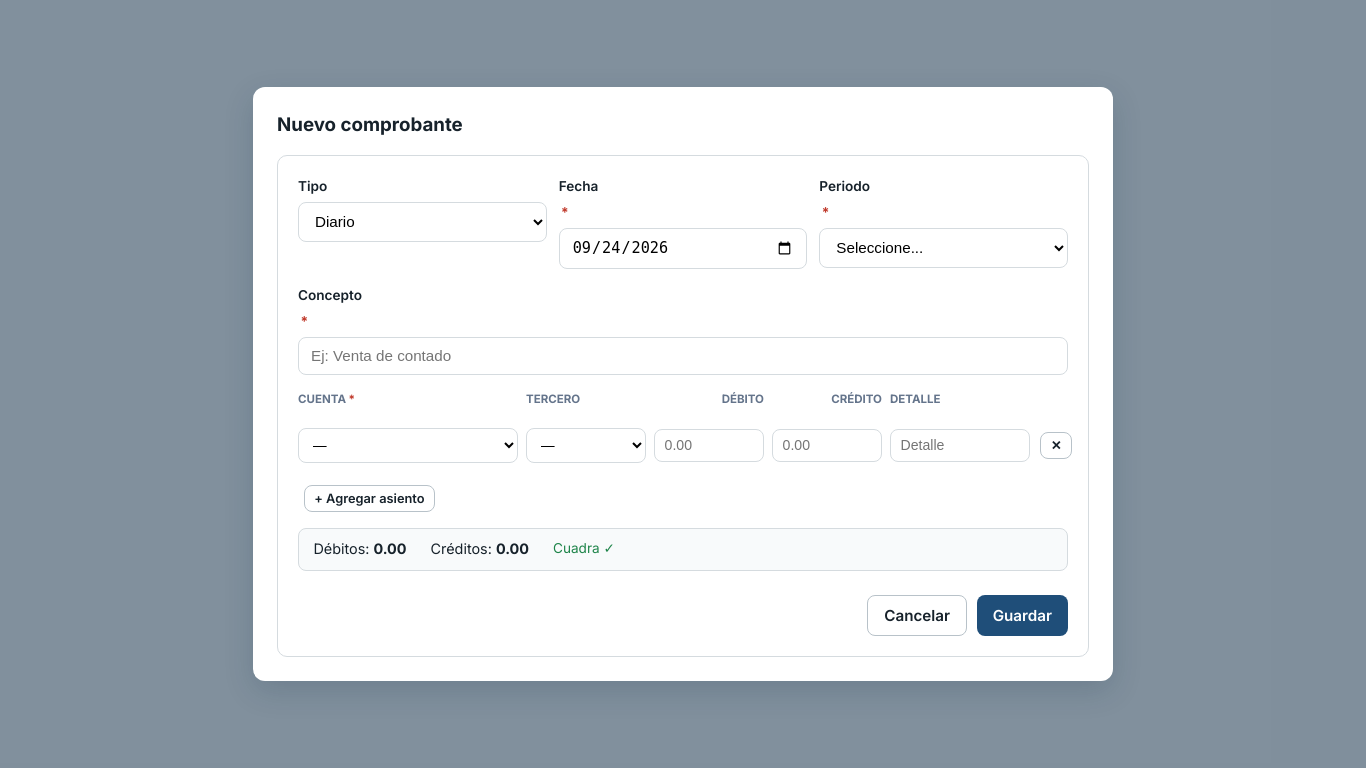
Test case: ComprobanteForm › no permite débito y crédito a la vez en la misma línea
Expected: the button "Guardar" is shown, [977,595,1068,636]
Select "2026-01" in the dropdown labelled "Periodo *" at coordinates (944, 248), box [819,228,1068,268]
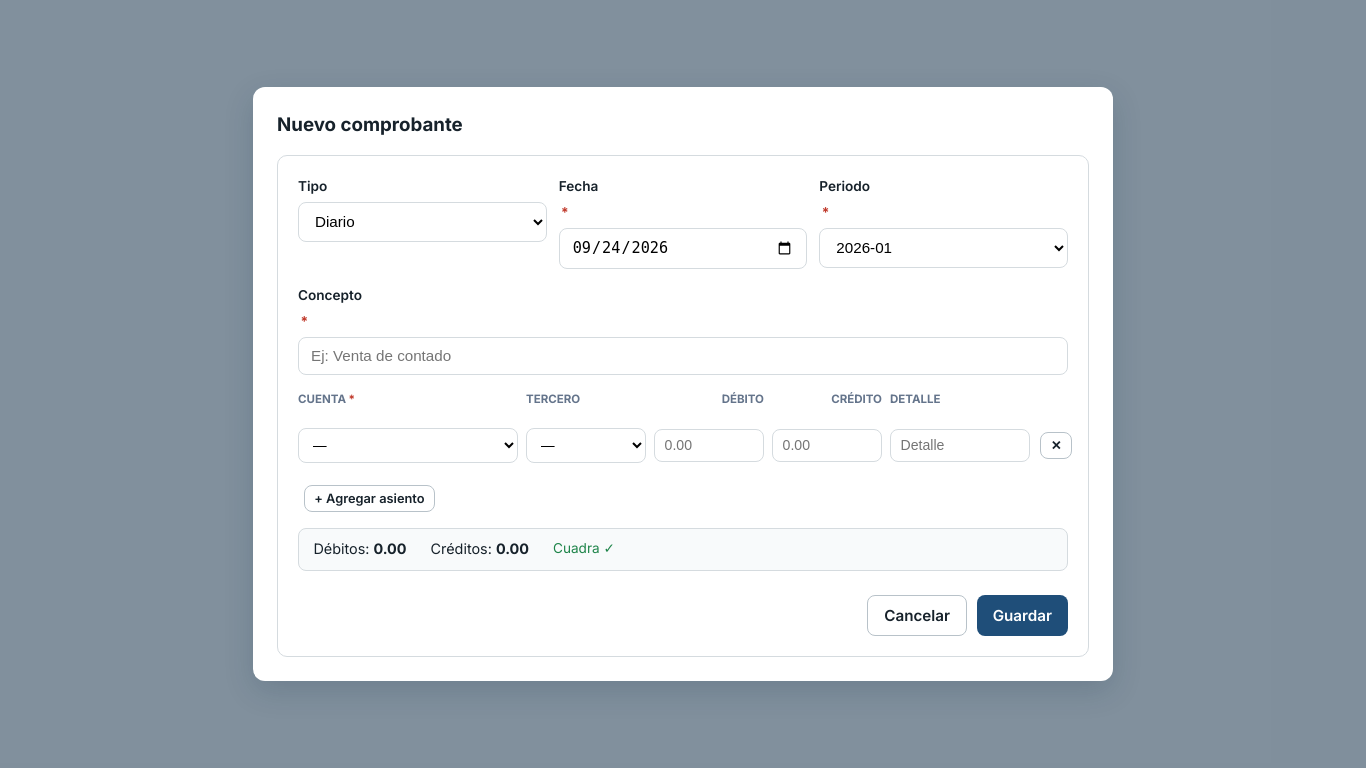
Type "Venta" into the field labelled "Concepto *" at coordinates (683, 356), box [298,337,1068,375]
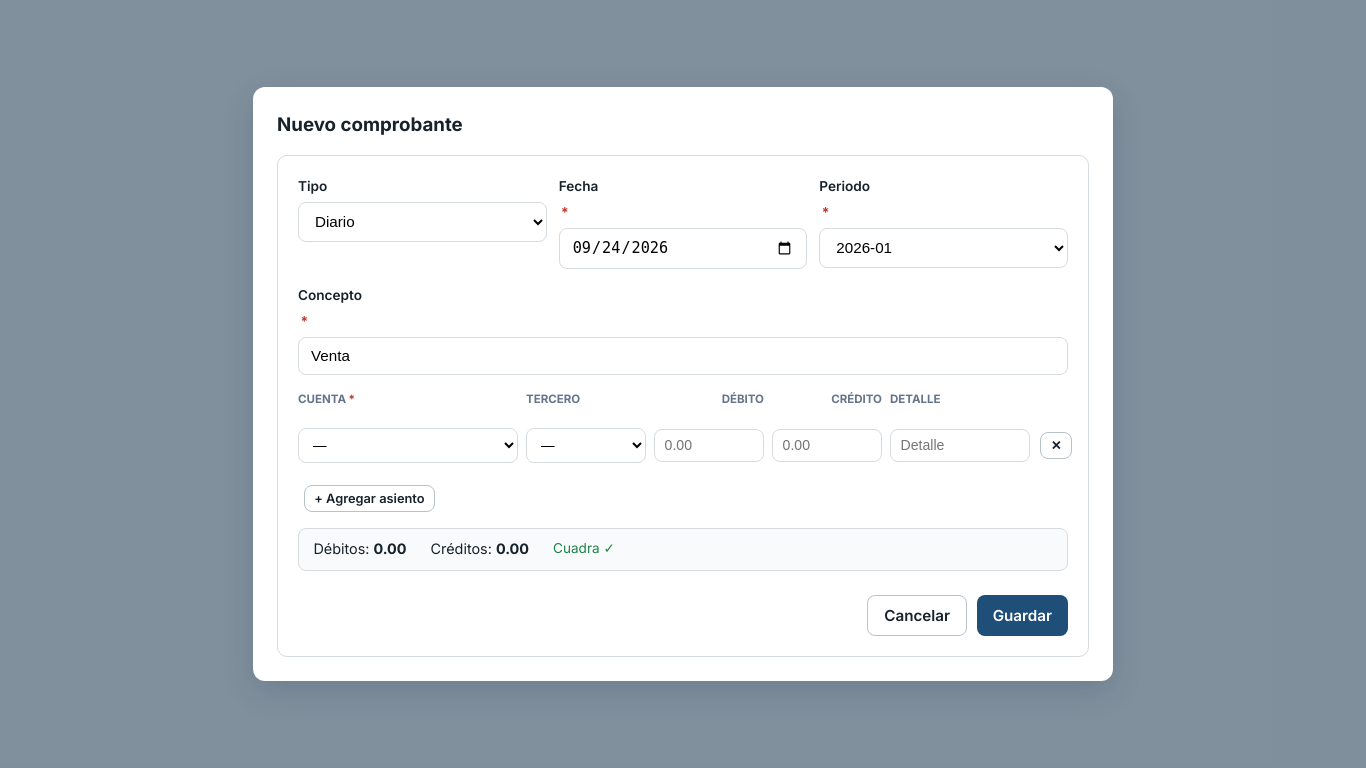
Select "1105 Caja" in the 3rd dropdown at coordinates (408, 446), box [298,428,518,463]
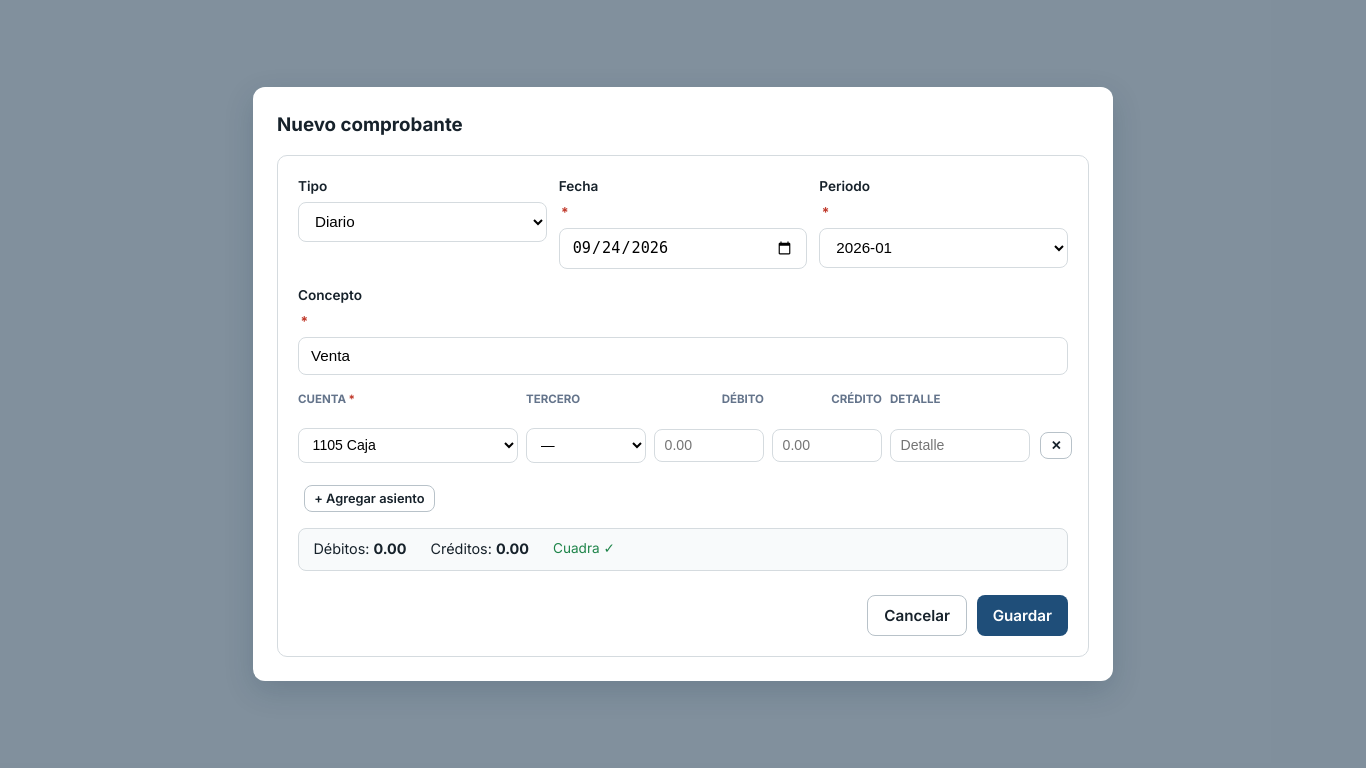
Type "50" into the 1st number field with placeholder "0.00" at coordinates (709, 446), box [654,429,764,462]
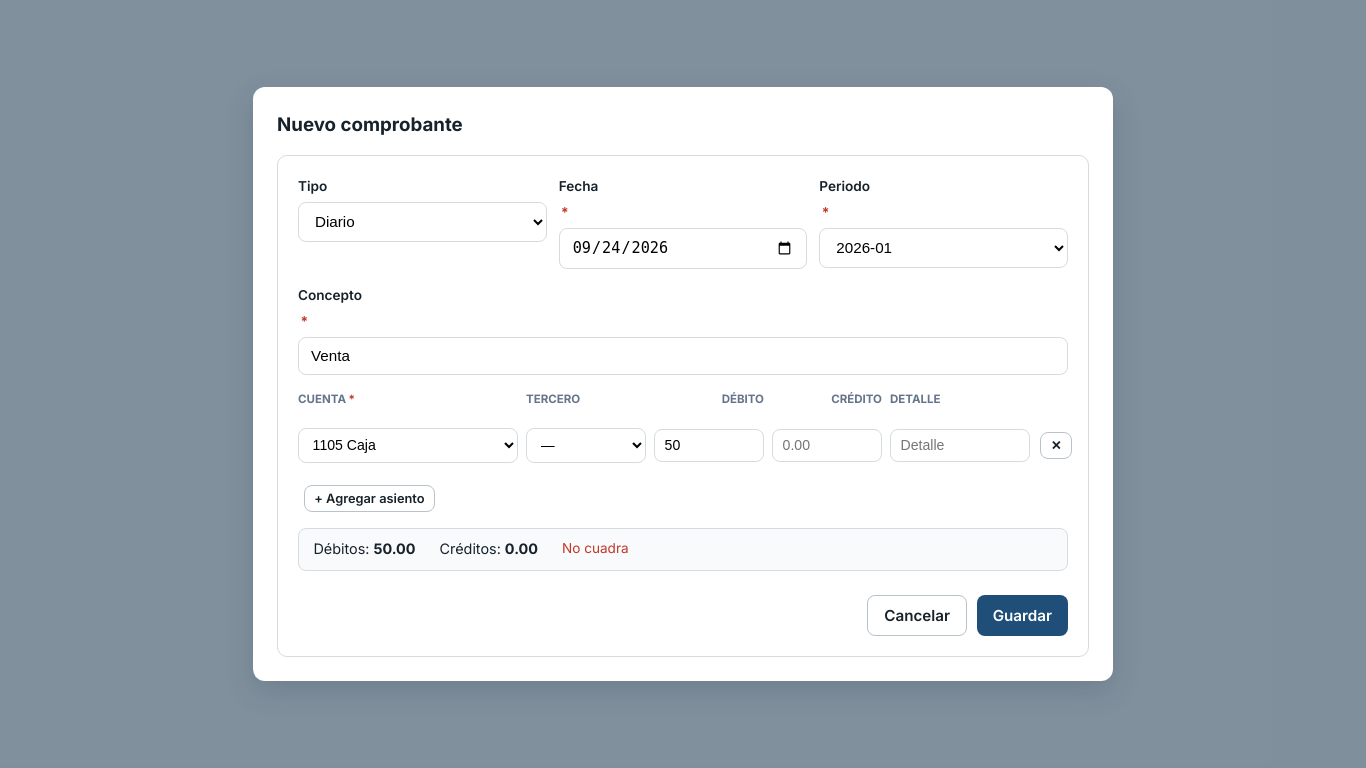
Type "50" into the number field with placeholder "0.00" at coordinates (827, 446), box [772,429,882,462]
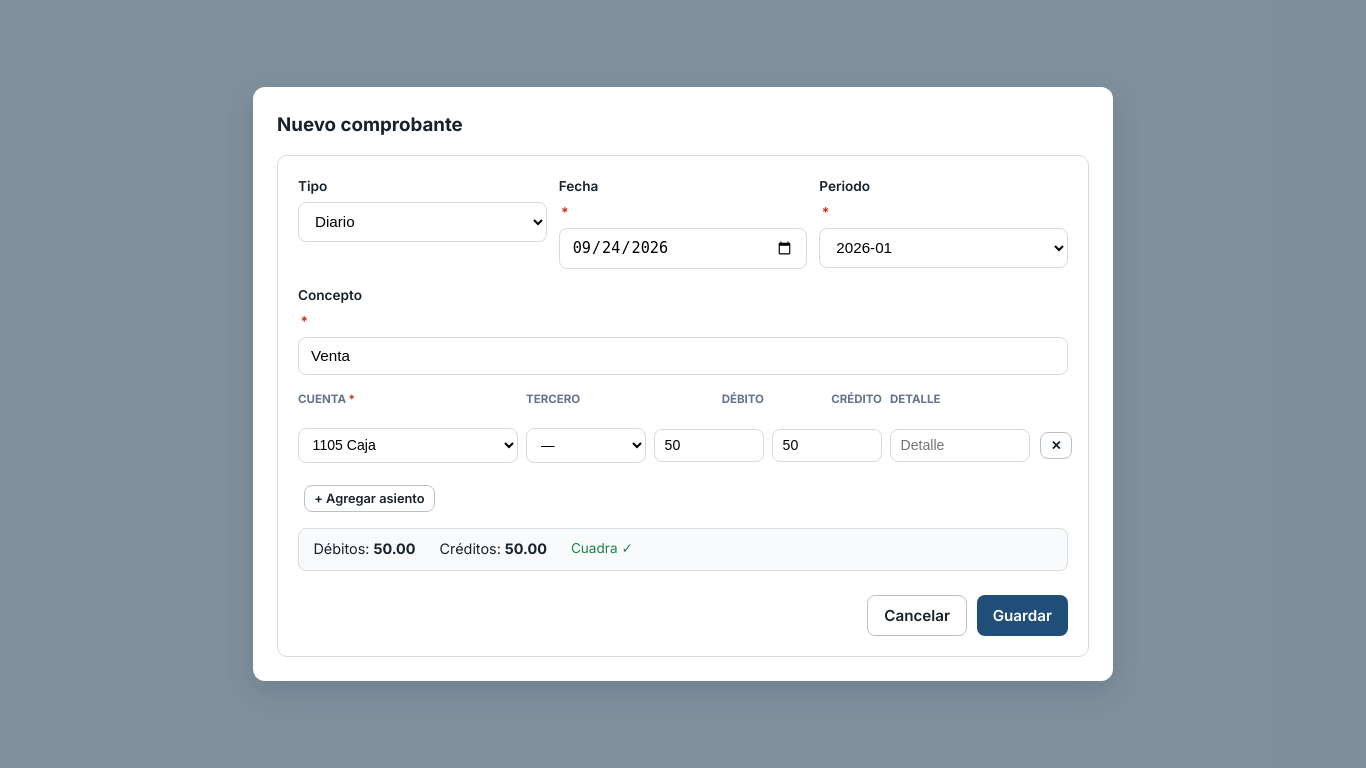
Click the button "Guardar" at coordinates (1022, 616), box [977,595,1068,636]
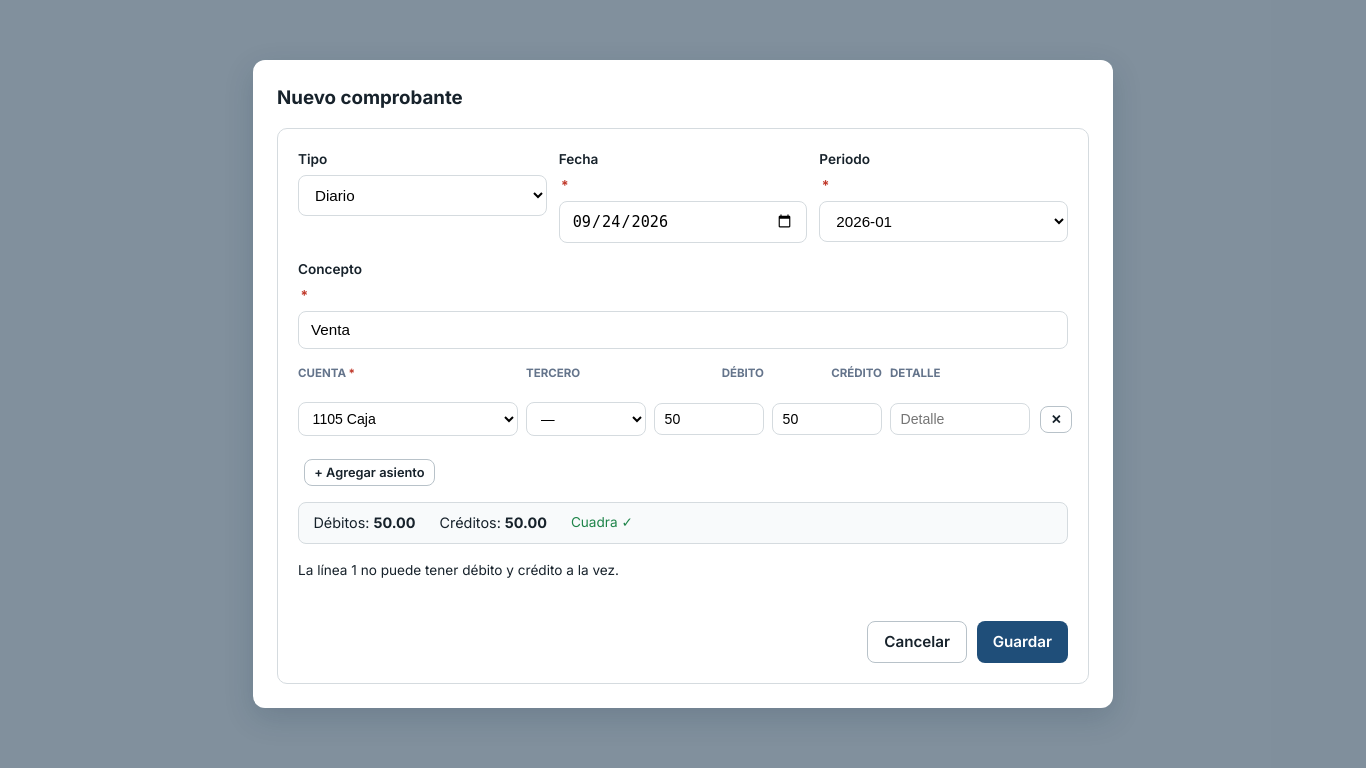
Expected: the text "La línea 1 no puede tener débito y crédito a la vez." is shown, [298,562,619,578]
